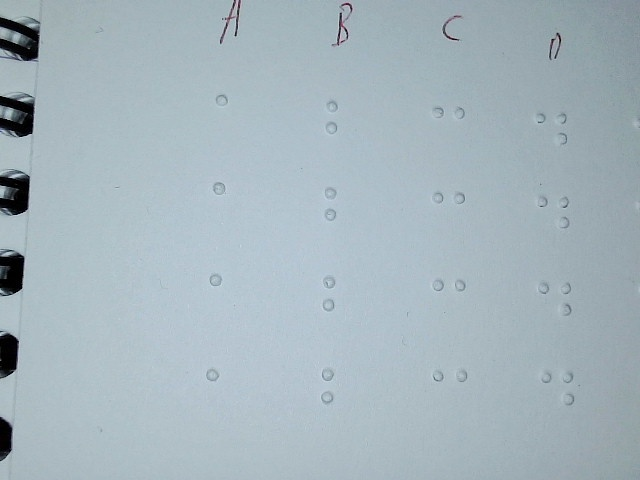A: (203, 83, 259, 162), (203, 171, 259, 250), (200, 262, 256, 341), (198, 356, 254, 435)
B: (317, 90, 372, 167), (316, 177, 371, 254), (313, 265, 368, 342), (311, 358, 366, 435)
C: (424, 95, 477, 173), (423, 180, 476, 258), (424, 268, 477, 346), (423, 359, 476, 437)
